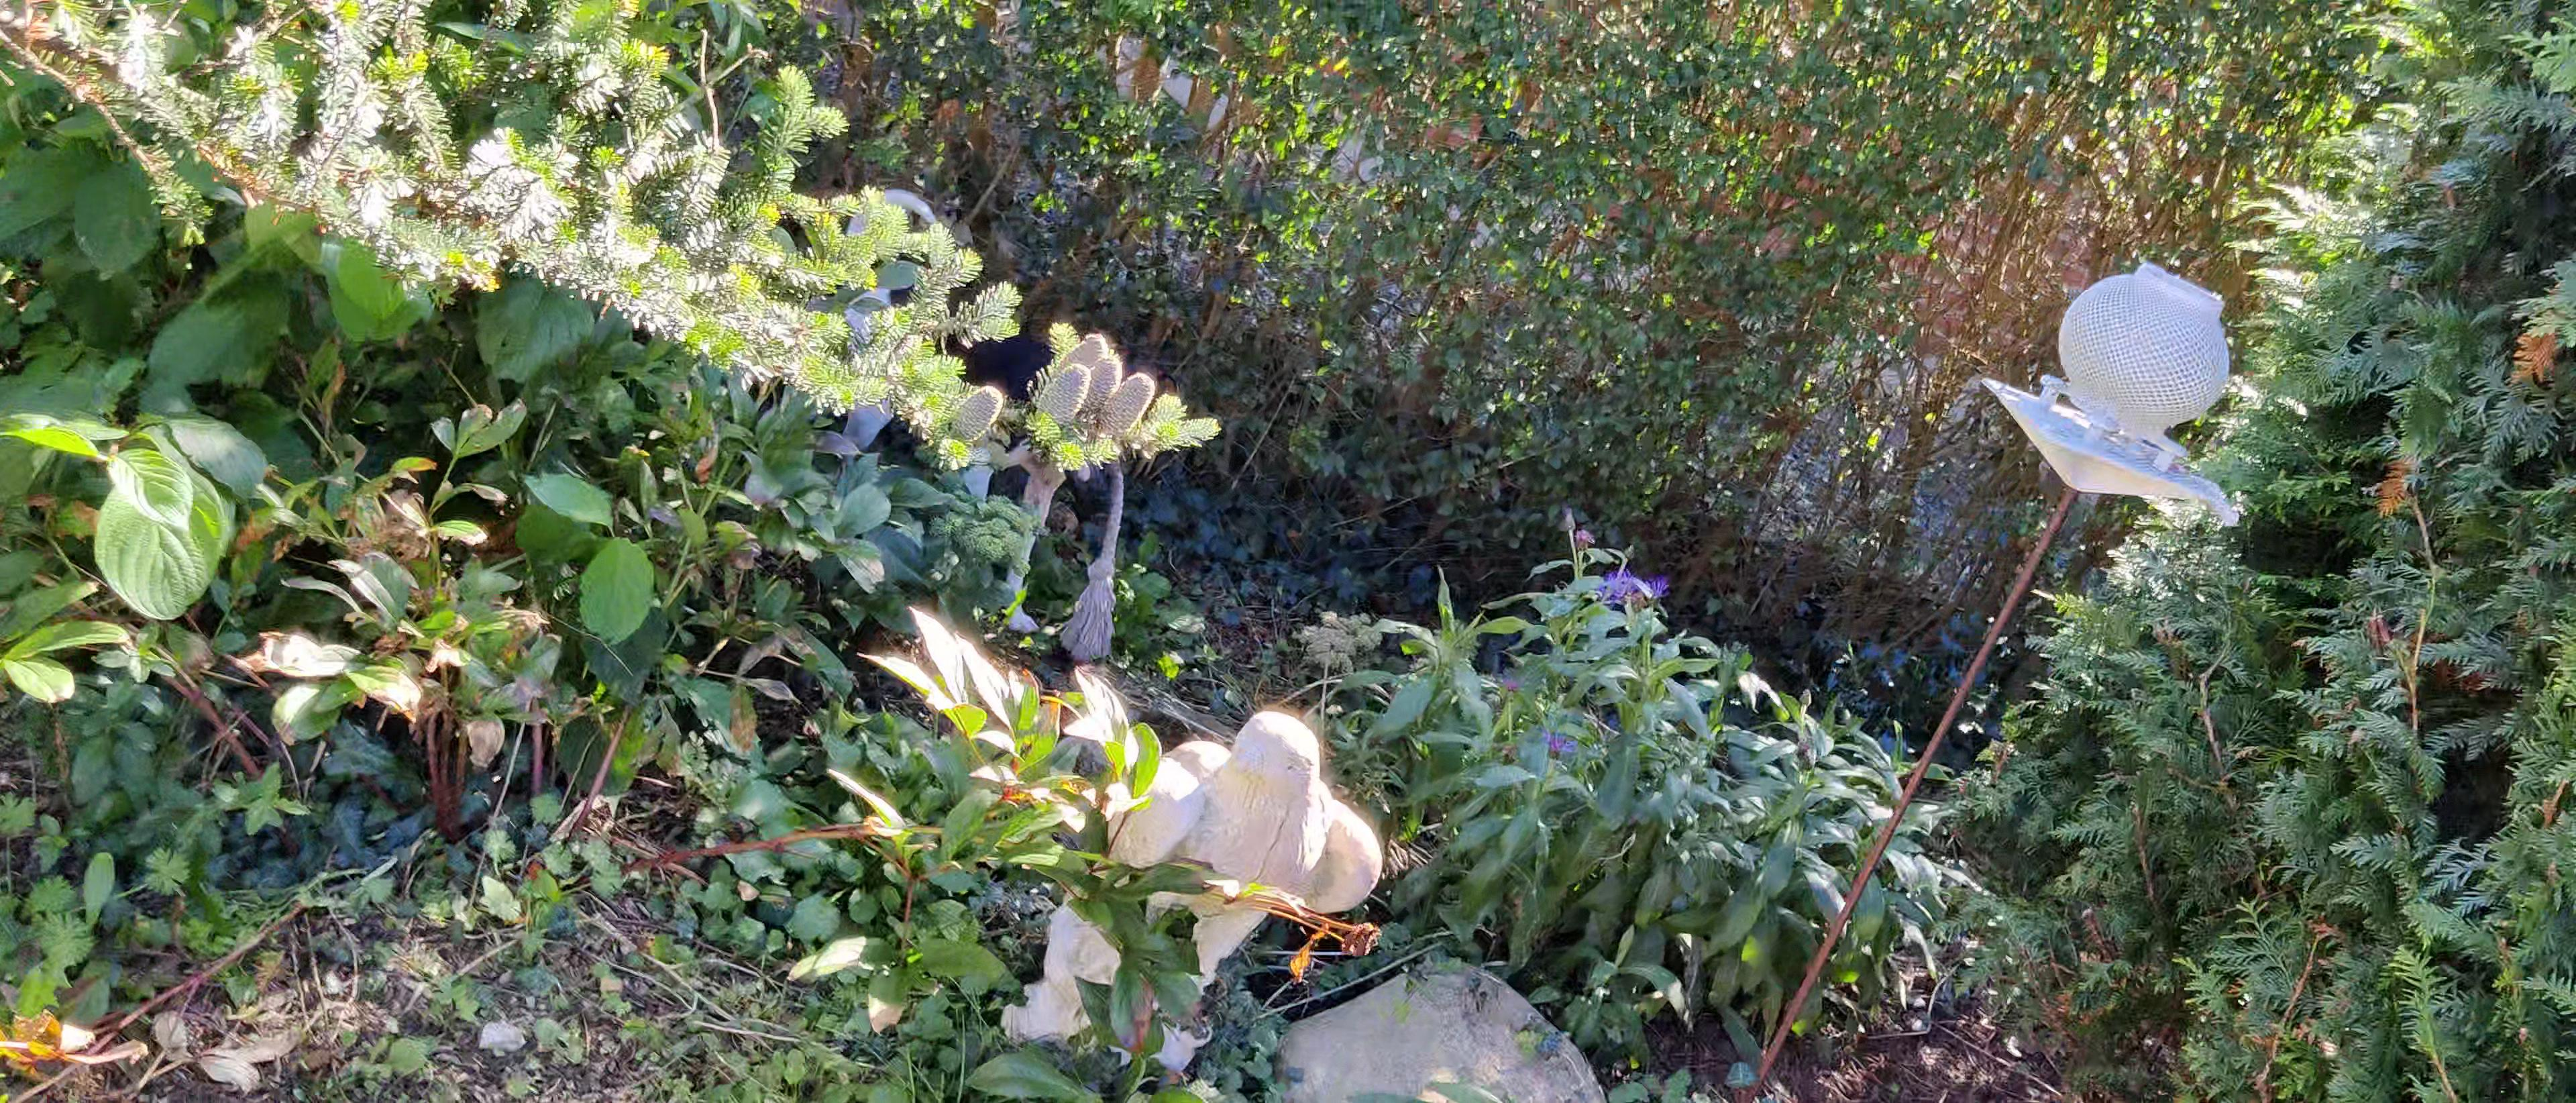Dog: (831, 184, 1074, 636)
